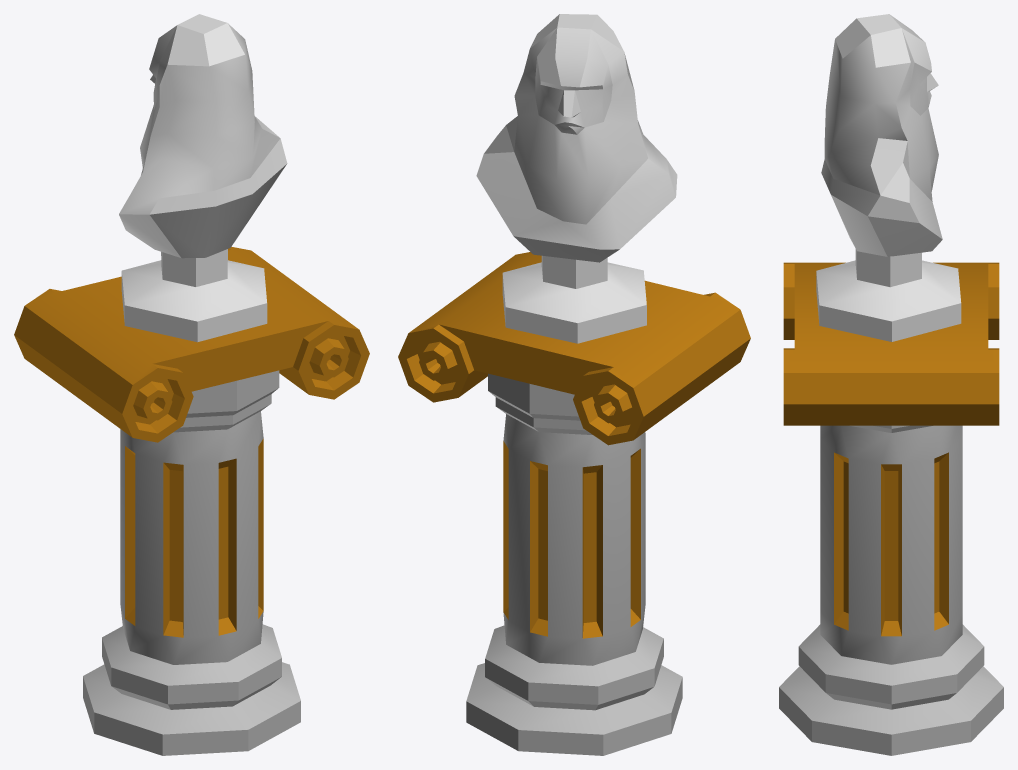
The model's file is tuong1.fbx.
3 renders of one model, left to right at view 1: azimuth 30°, elevation 25°; view 2: azimuth 150°, elevation 25°; view 3: azimuth 270°, elevation 25°, orthographic.
Parts seen in each view (by area): view 1: tuong1; view 2: tuong1; view 3: tuong1.
Part boxes in pixels (x1,y1,x2,y2): tuong1: (14,14,369,755); tuong1: (398,14,750,755); tuong1: (779,14,1003,755).
Bounding box in the file's own units: 138 × 368 × 109.
